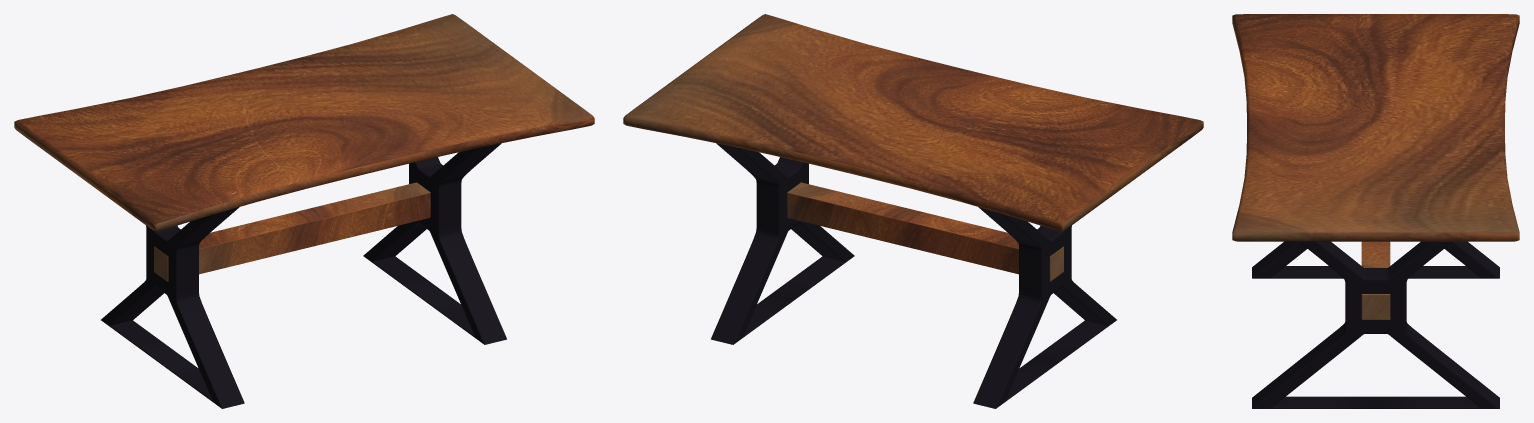
Rendered from TABLE1.fbx.
3 views of the same model, side by side, from view 1: azimuth 30°, elevation 25°; view 2: azimuth 150°, elevation 25°; view 3: azimuth 270°, elevation 25° (orthographic).
Parts seen in each view (by area): view 1: Cube.002; view 2: Cube.002; view 3: Cube.002.
Boxes of the visible parts, x1,y1,x2,y2 form: Cube.002: (14, 14, 594, 408); Cube.002: (623, 14, 1203, 408); Cube.002: (1232, 14, 1519, 408).
Size of the model in its own units: 183 by 84.77 by 102.
2 materials, 1 textured.
